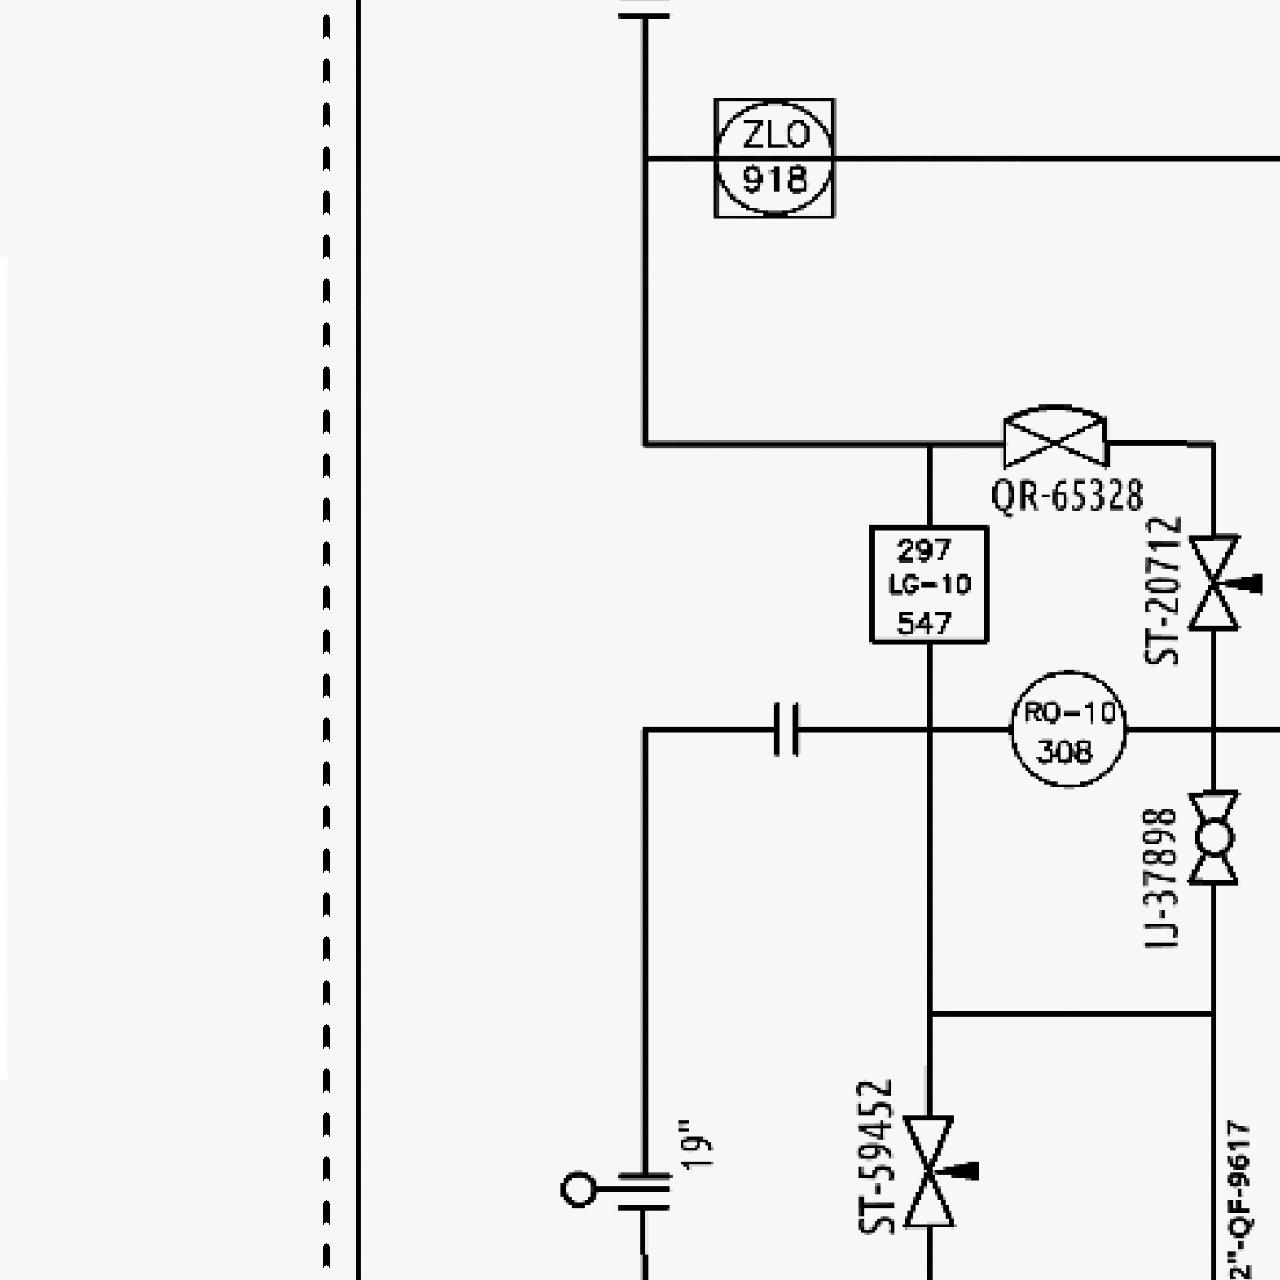Control-Panel: (1005, 663, 1131, 791)
